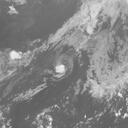cyclone: (54, 63, 68, 75)
